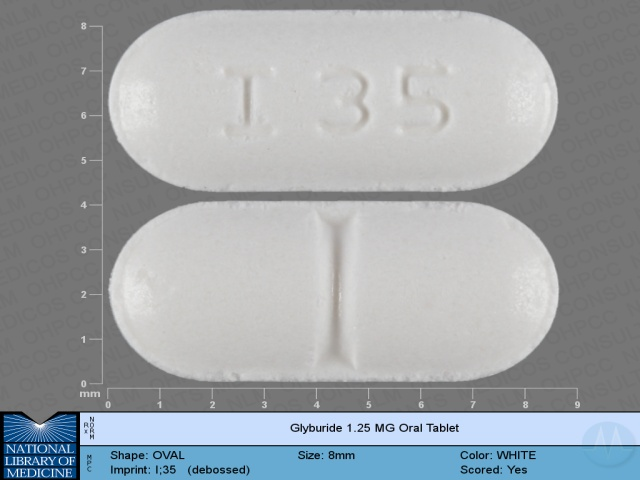3: (313, 61, 373, 140)
5: (394, 62, 454, 135)
I: (215, 63, 278, 143)
|: (307, 198, 364, 384)
